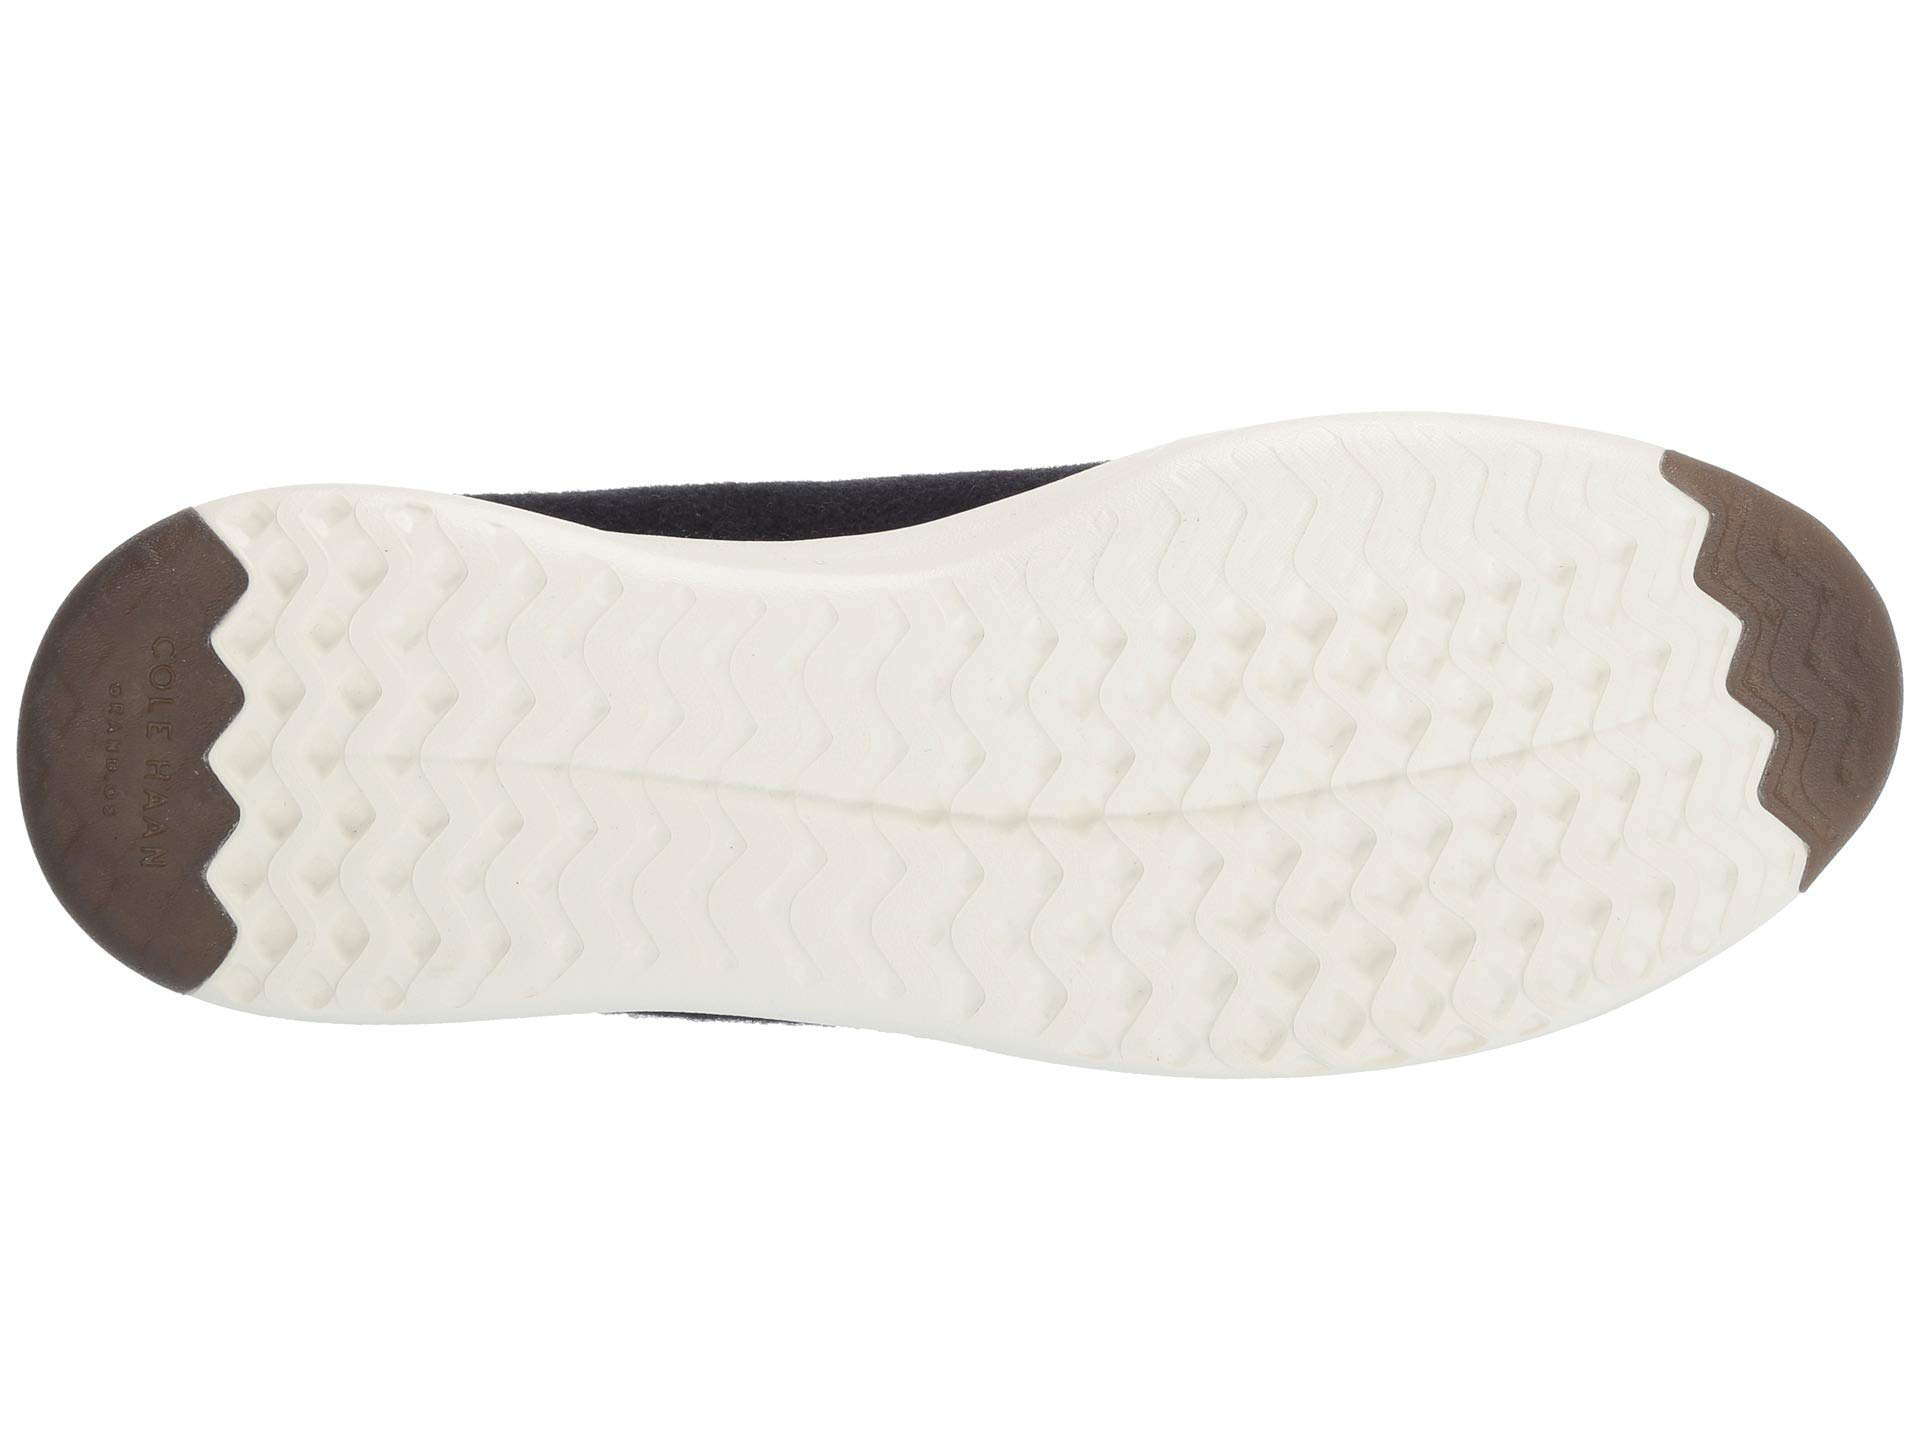chevron: (1149, 551, 1683, 1065), (594, 570, 921, 1027)
quad: (1149, 551, 1683, 1065)
text: (129, 616, 190, 895)
